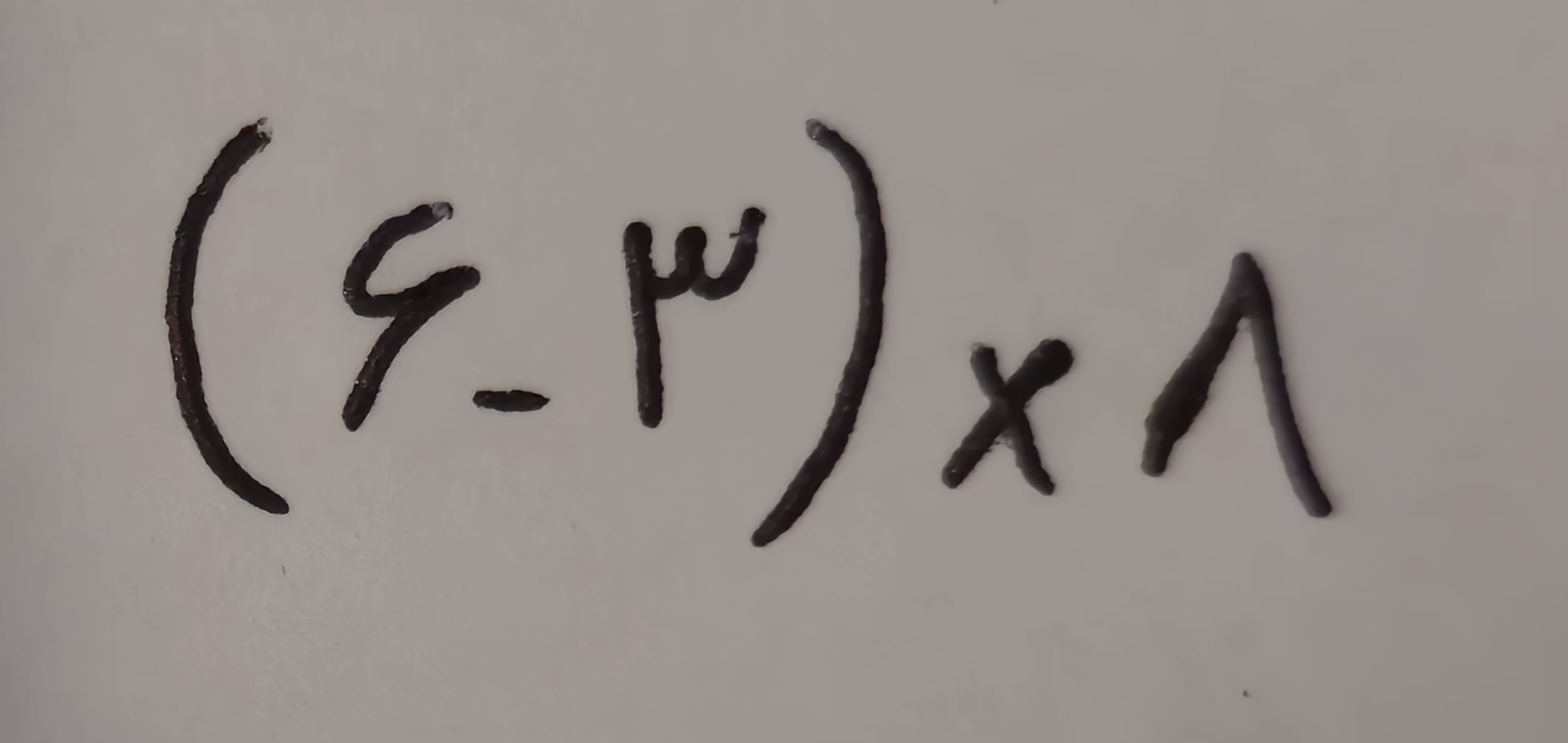character: (750, 119, 888, 547), (1139, 251, 1333, 519), (164, 114, 291, 516), (342, 201, 482, 434), (623, 206, 766, 429), (941, 338, 1072, 497), (474, 388, 549, 414)
